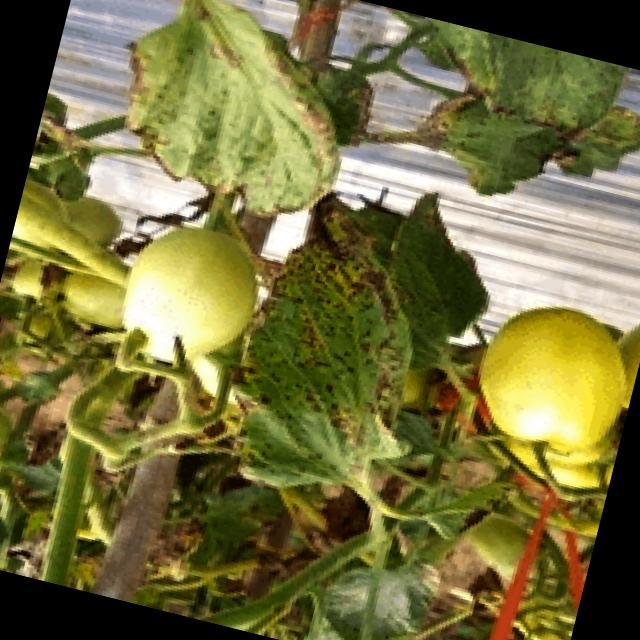Tomato bacterial spot leaf: (192, 189, 476, 523), (87, 0, 380, 241)
